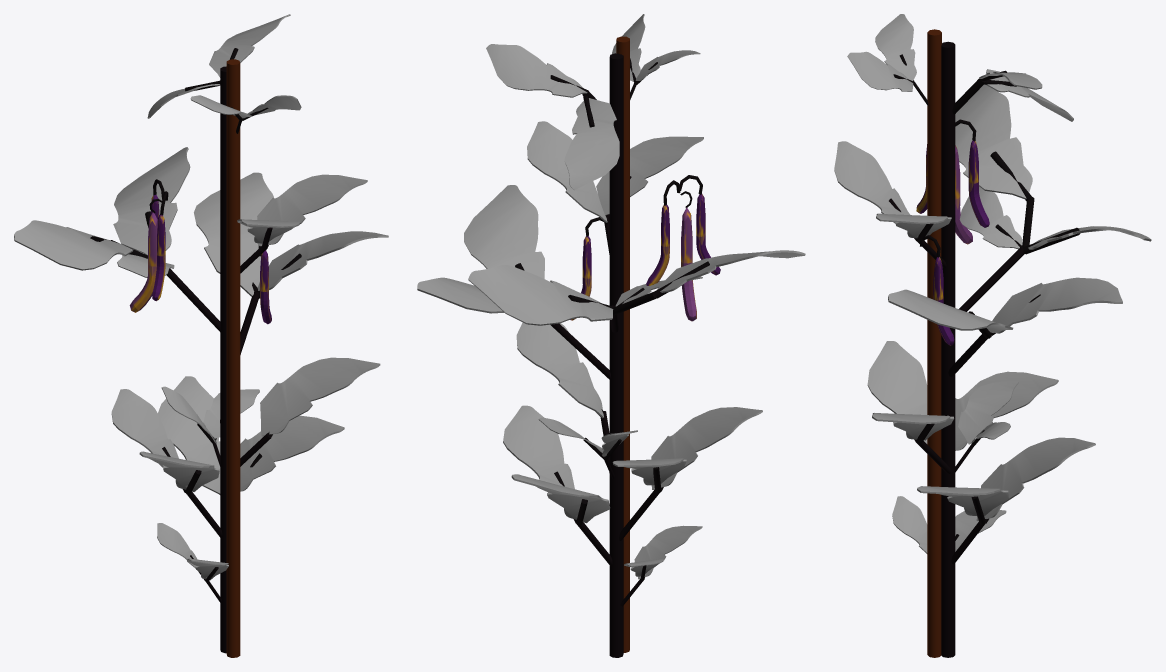
The model's file is 茄子往生.FBX.
3 renders of one model, left to right at view 1: azimuth 30°, elevation 25°; view 2: azimuth 150°, elevation 25°; view 3: azimuth 270°, elevation 25°, orthographic. The views are drawn at different scales.
Visible parts, largest first — view 1: Cylinder007, Line012, Line009, Cylinder001, Line010, Line024, Line015, Line014, Line017, Line021, Line011, Line028 (+11 smaller); view 2: Cylinder001, Line009, Line011, Cylinder007, Line012, Line029, Line014, Line020, Line028, Line017, Line016, Line015 (+11 smaller); view 3: Cylinder001, Cylinder007, Line024, Line010, Line020, Line015, Line016, Line011, Line021, Line033, Line025, Line030 (+13 smaller).
Boxes of the visible parts, bbox=[...] form: Cylinder007: bbox=[226, 59, 240, 657]; Line012: bbox=[260, 357, 380, 436]; Line009: bbox=[113, 147, 190, 255]; Cylinder001: bbox=[220, 66, 226, 653]; Line010: bbox=[194, 172, 273, 296]; Line024: bbox=[14, 220, 133, 270]; Line015: bbox=[158, 376, 220, 494]; Line014: bbox=[240, 415, 344, 491]; Line017: bbox=[257, 174, 367, 246]; Line021: bbox=[111, 389, 187, 487]; Line011: bbox=[257, 231, 388, 290]; Line028: bbox=[209, 14, 290, 77]; Cylinder001: bbox=[609, 53, 623, 657]; Line009: bbox=[468, 265, 613, 325]; Line011: bbox=[464, 185, 544, 278]; Cylinder007: bbox=[616, 36, 629, 652]; Line012: bbox=[516, 322, 603, 418]; Line029: bbox=[564, 98, 619, 190]; Line014: bbox=[503, 405, 577, 517]; Line020: bbox=[651, 407, 762, 489]; Line028: bbox=[486, 44, 587, 97]; Line017: bbox=[527, 121, 607, 222]; Line016: bbox=[596, 136, 703, 215]; Line015: bbox=[511, 474, 610, 523]; Cylinder001: bbox=[941, 41, 955, 657]; Cylinder007: bbox=[927, 29, 941, 657]; Line024: bbox=[955, 84, 1032, 199]; Line010: bbox=[992, 277, 1122, 333]; Line020: bbox=[867, 341, 927, 443]; Line015: bbox=[976, 437, 1095, 520]; Line016: bbox=[834, 141, 918, 236]; Line011: bbox=[888, 289, 1013, 332]; Line021: bbox=[955, 371, 1058, 450]; Line033: bbox=[958, 380, 1018, 444]; Line025: bbox=[959, 186, 1021, 249]; Line030: bbox=[875, 14, 916, 80].
Bounding box in the file's own units: 31.16 × 51.75 × 23.93.
Materials: 27 (4 with a texture image).
